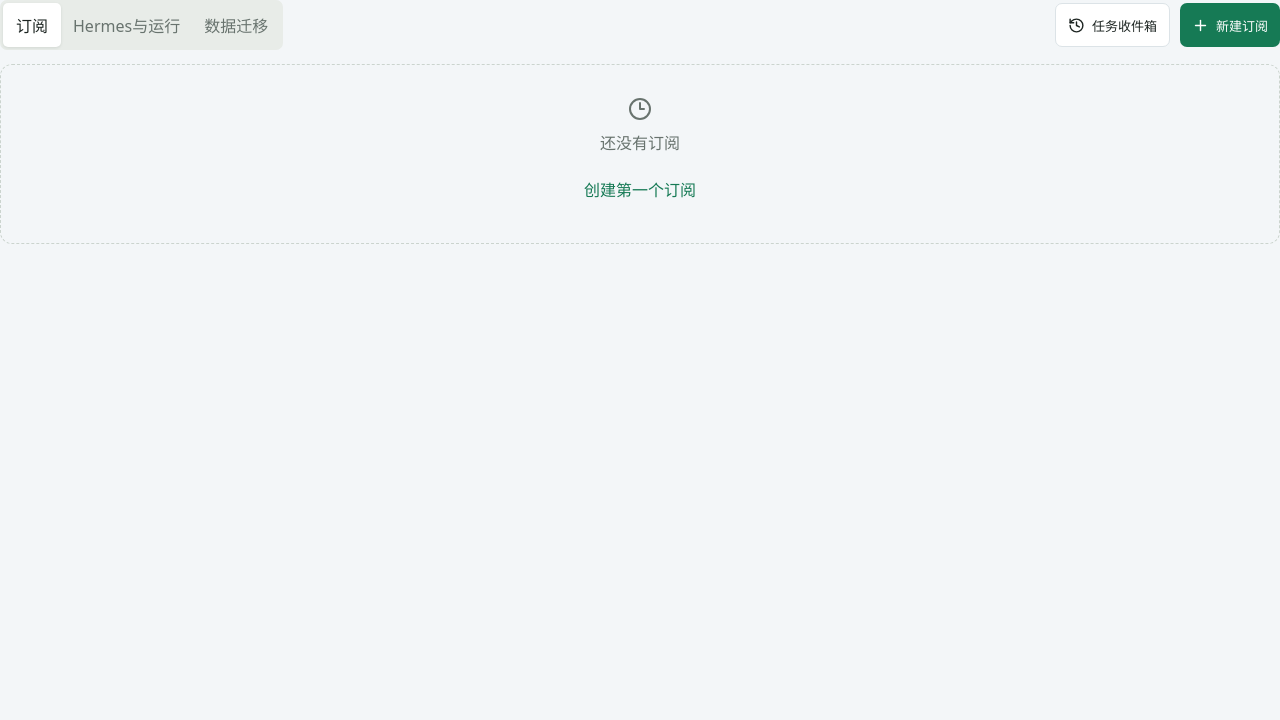
用常用选项选择执行周期
The image size is (1280, 720).
Expected: the text "还没有订阅" is shown, [600,131,680,157]
Click the button "新建订阅" at (1230, 25), box [1180,3,1279,47]
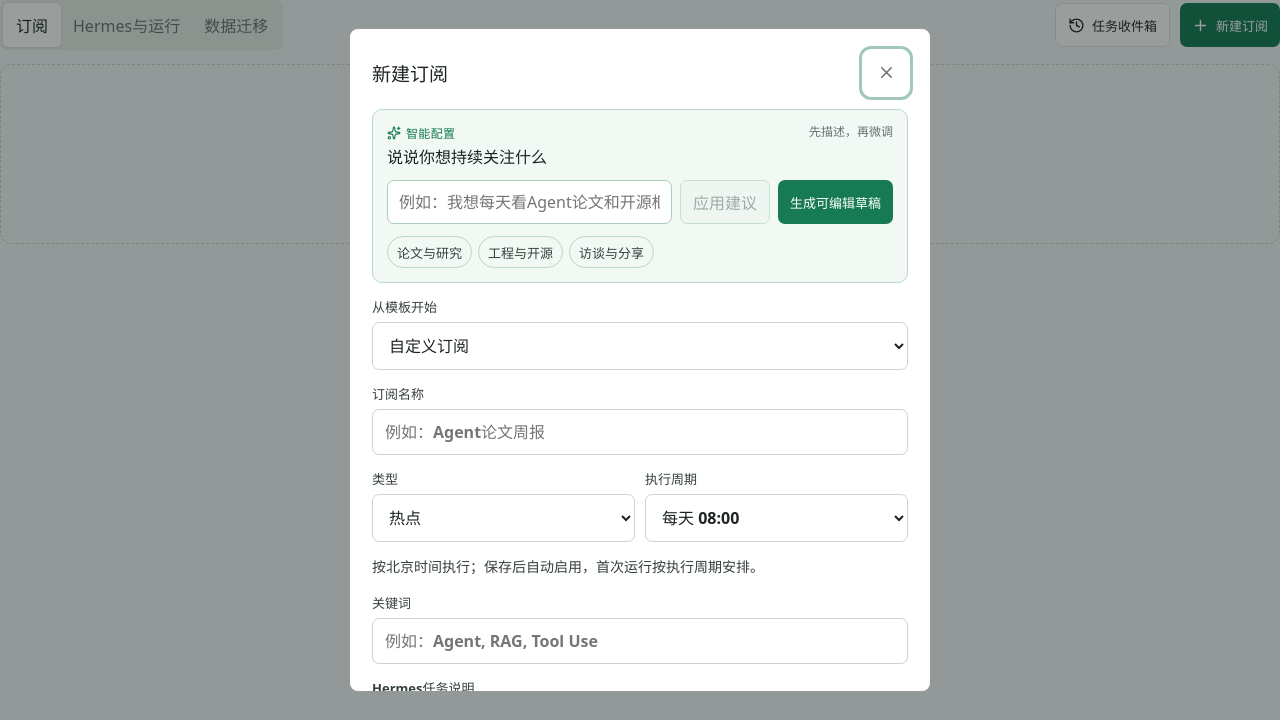
Expected: the dropdown labelled "执行周期" shows "每天 08:00", [645,494,908,542]
